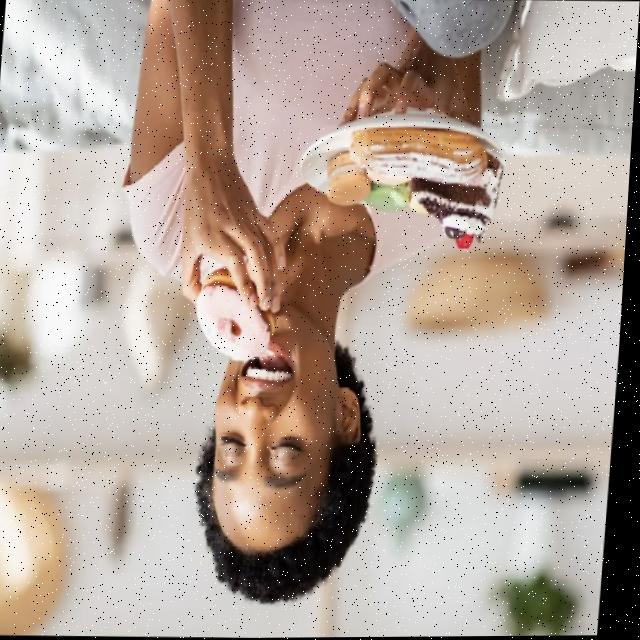eating-person: (82, 0, 524, 629)
